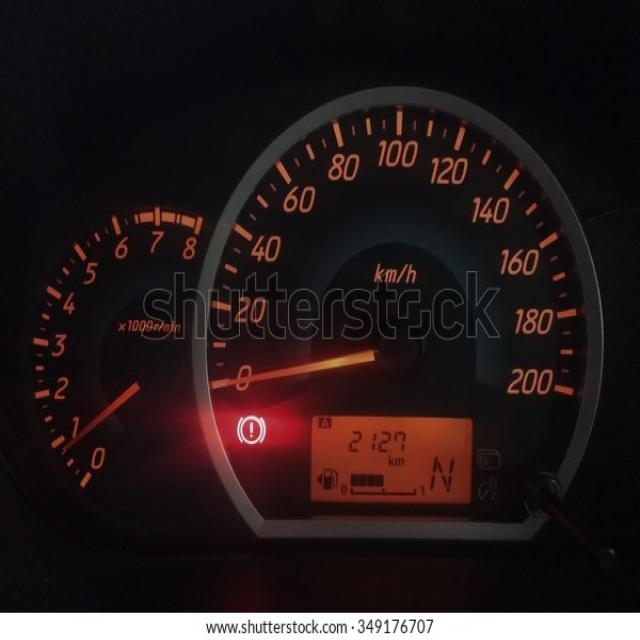Braking System Issue: (235, 412, 268, 447)
